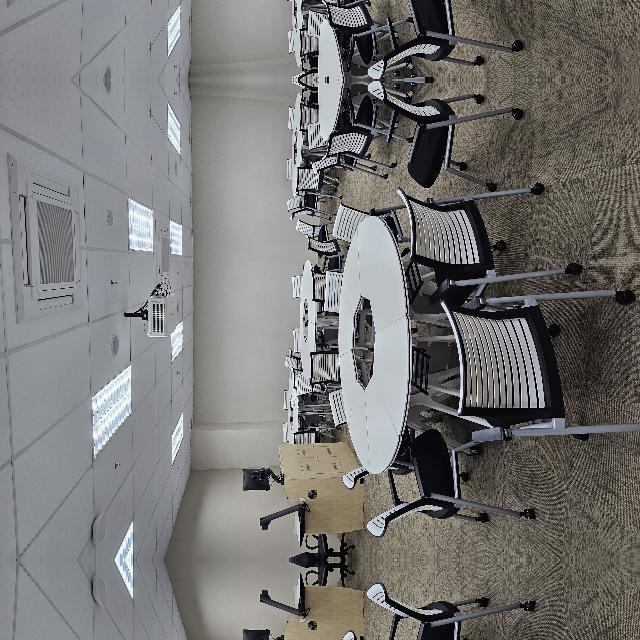obstacle: (83, 415, 347, 549), (114, 408, 276, 592), (113, 527, 276, 640), (83, 571, 347, 640), (377, 442, 479, 602), (377, 517, 479, 640), (24, 357, 120, 445)
